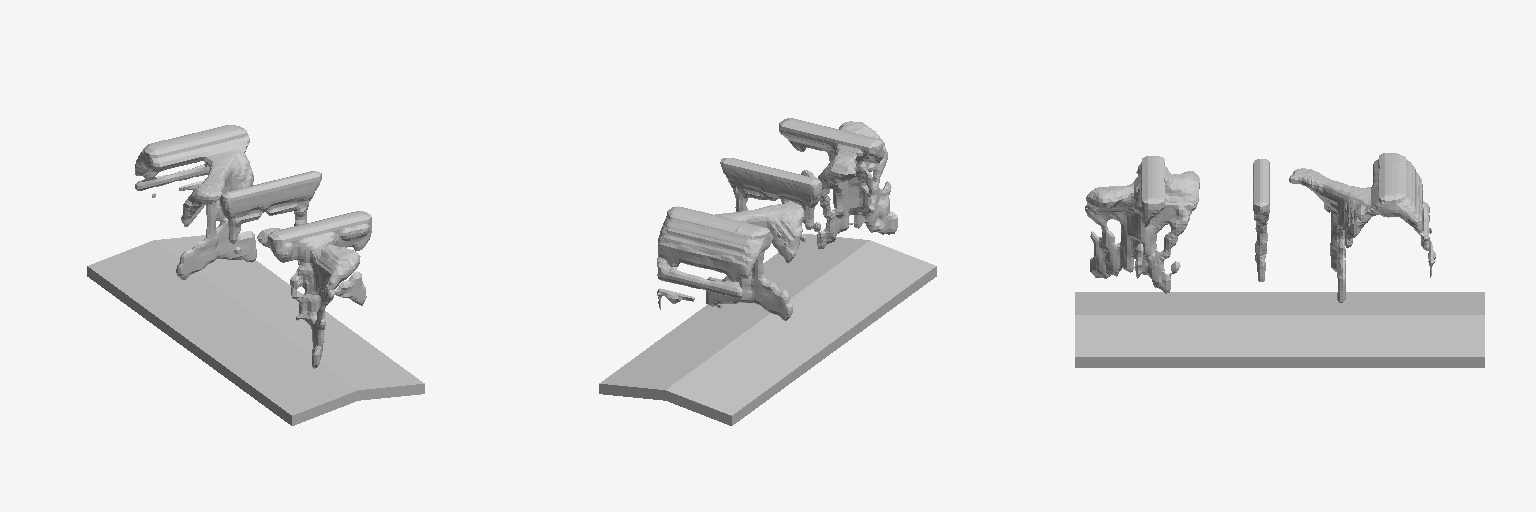
Rendered from Watersim_000015.obj.
3 views of the same model, side by side, from view 1: azimuth 30°, elevation 25°; view 2: azimuth 150°, elevation 25°; view 3: azimuth 270°, elevation 25° (orthographic).
Parts seen in each view (by area): view 1: Straße_Cube.007, Domain_Cube.006; view 2: Straße_Cube.007, Domain_Cube.006; view 3: Straße_Cube.007, Domain_Cube.006.
Part boxes in pixels (x1,y1,x2,y2): Straße_Cube.007: (87, 235, 424, 425); Domain_Cube.006: (135, 125, 371, 368); Straße_Cube.007: (599, 234, 936, 425); Domain_Cube.006: (657, 118, 897, 320); Straße_Cube.007: (1075, 292, 1484, 367); Domain_Cube.006: (1085, 153, 1435, 302).
Size of the model in its own units: 2.26 by 2.59 by 6.06.